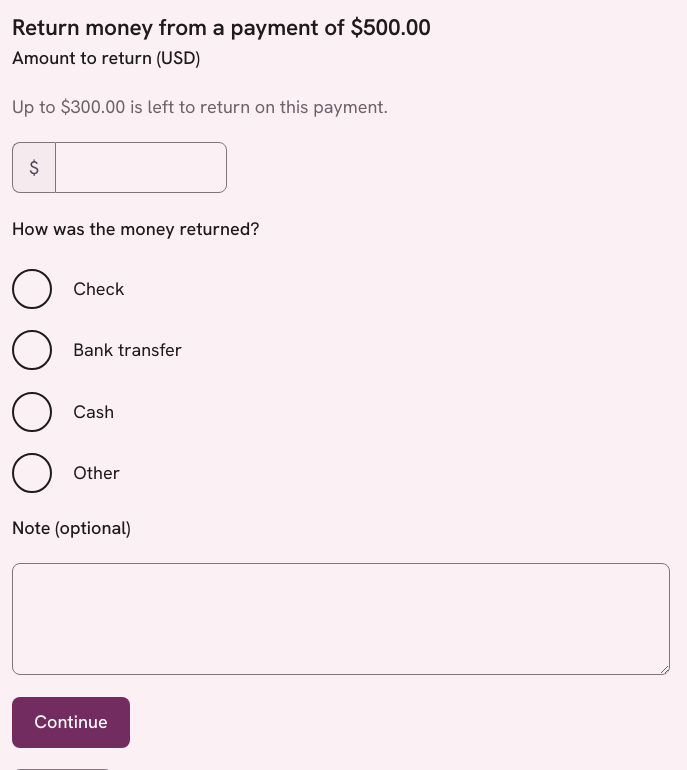
RefundPaymentForm › a Payment recorded by hand › shows a dash for an empty note on review
This screenshot has width=687, height=770.
Type "10" into the number field labelled "Amount to return (USD)" at (141, 168), box [55,142,227,193]
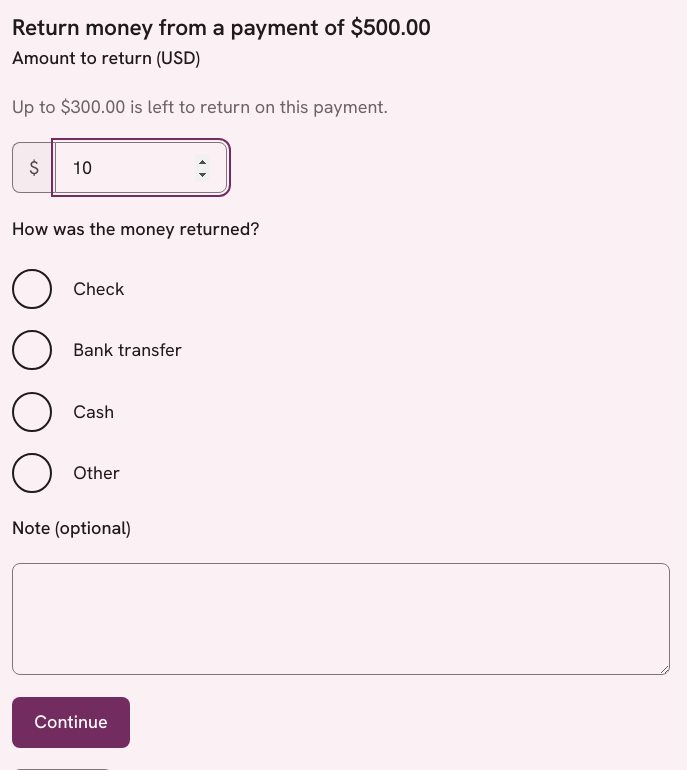
Click the radio button labelled "Check" at (32, 289), box [12,269,52,309]
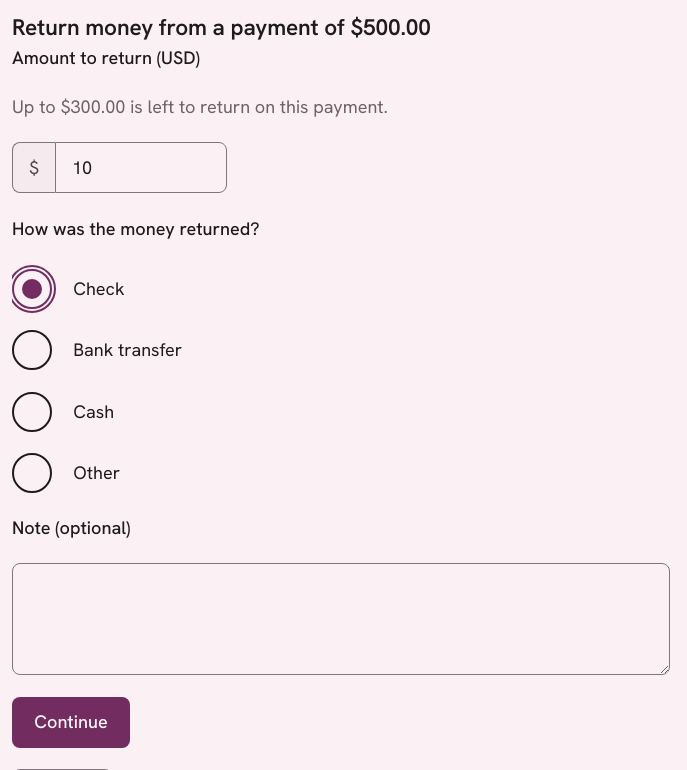
Click the button "Continue" at (71, 722), box [12,697,130,748]
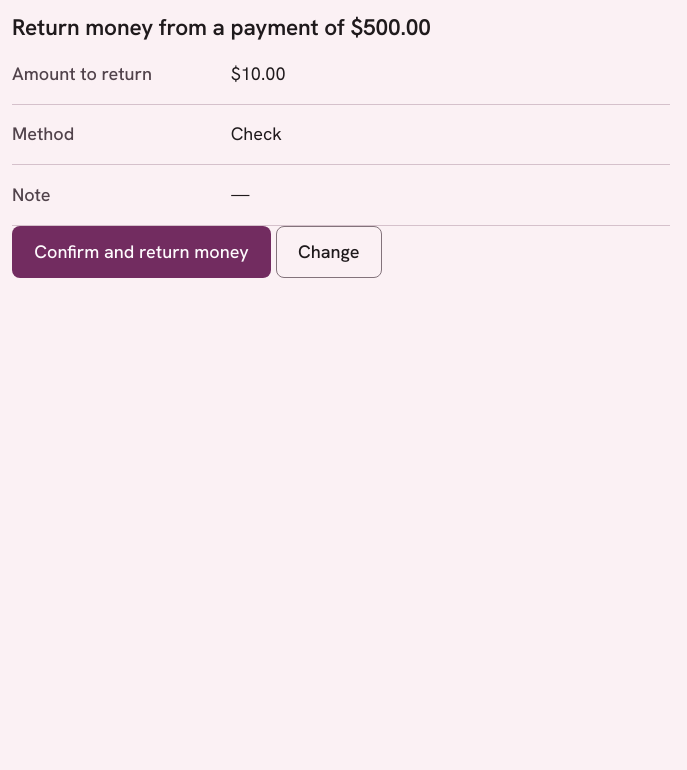
Check: the text "—" is shown, box [231,183,250,206]
